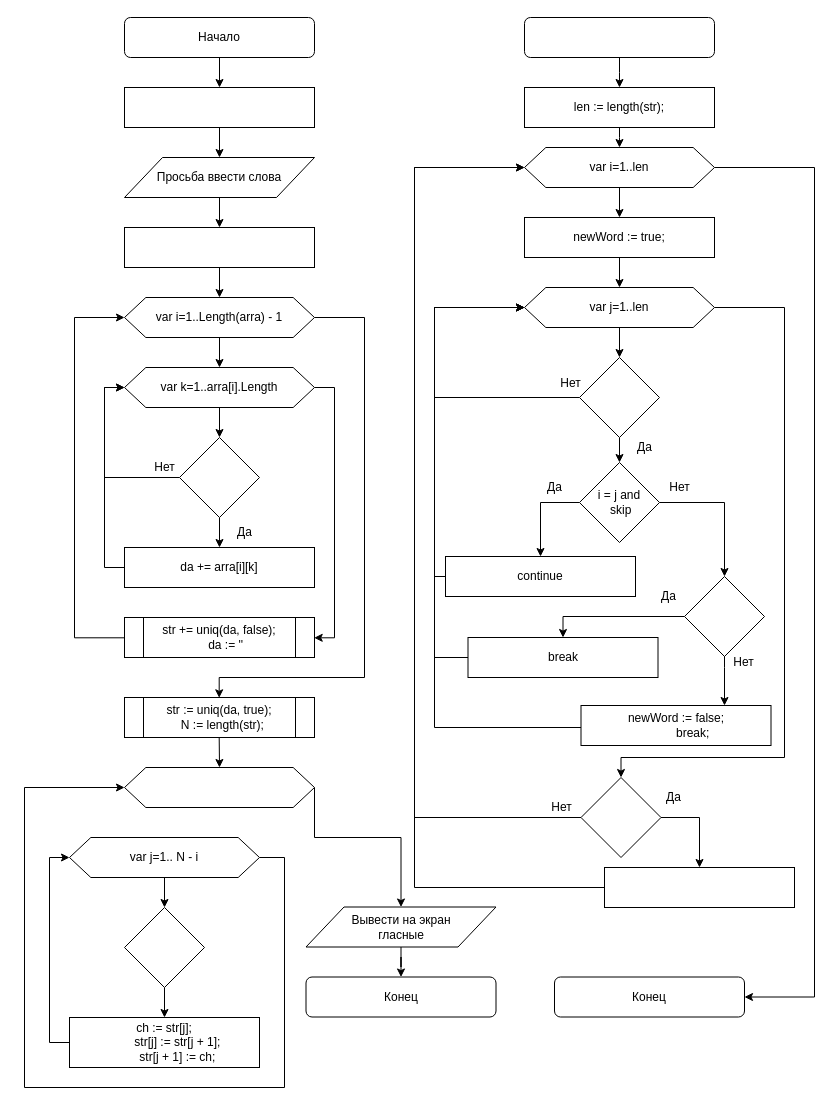
Some shapes in this 840 by 1113 pixel diagram are drawn without their labels. Here are the shapes that lost their labels. From the top down, the centre of each, then its label:
At point 619,37: "uniq".
At point 219,107: "const glasn = ['а', 'е', 'и', 'о', 'у', 'ы', 'э', 'ю', 'я'];".
At point 219,247: "readln(str); arra := str.Remove('.').split(','); str := '';".
At point 619,397: "str[i] = str[j]".
At point 219,477: "arra[i][k] in glasn".
At point 724,616: "i = j and not skip".
At point 219,787: "var i=1.. N - 1".
At point 620,817: "newWord".
At point 699,887: "Result += str[i]".
At point 164,947: "str[j]>str[j+1]".
